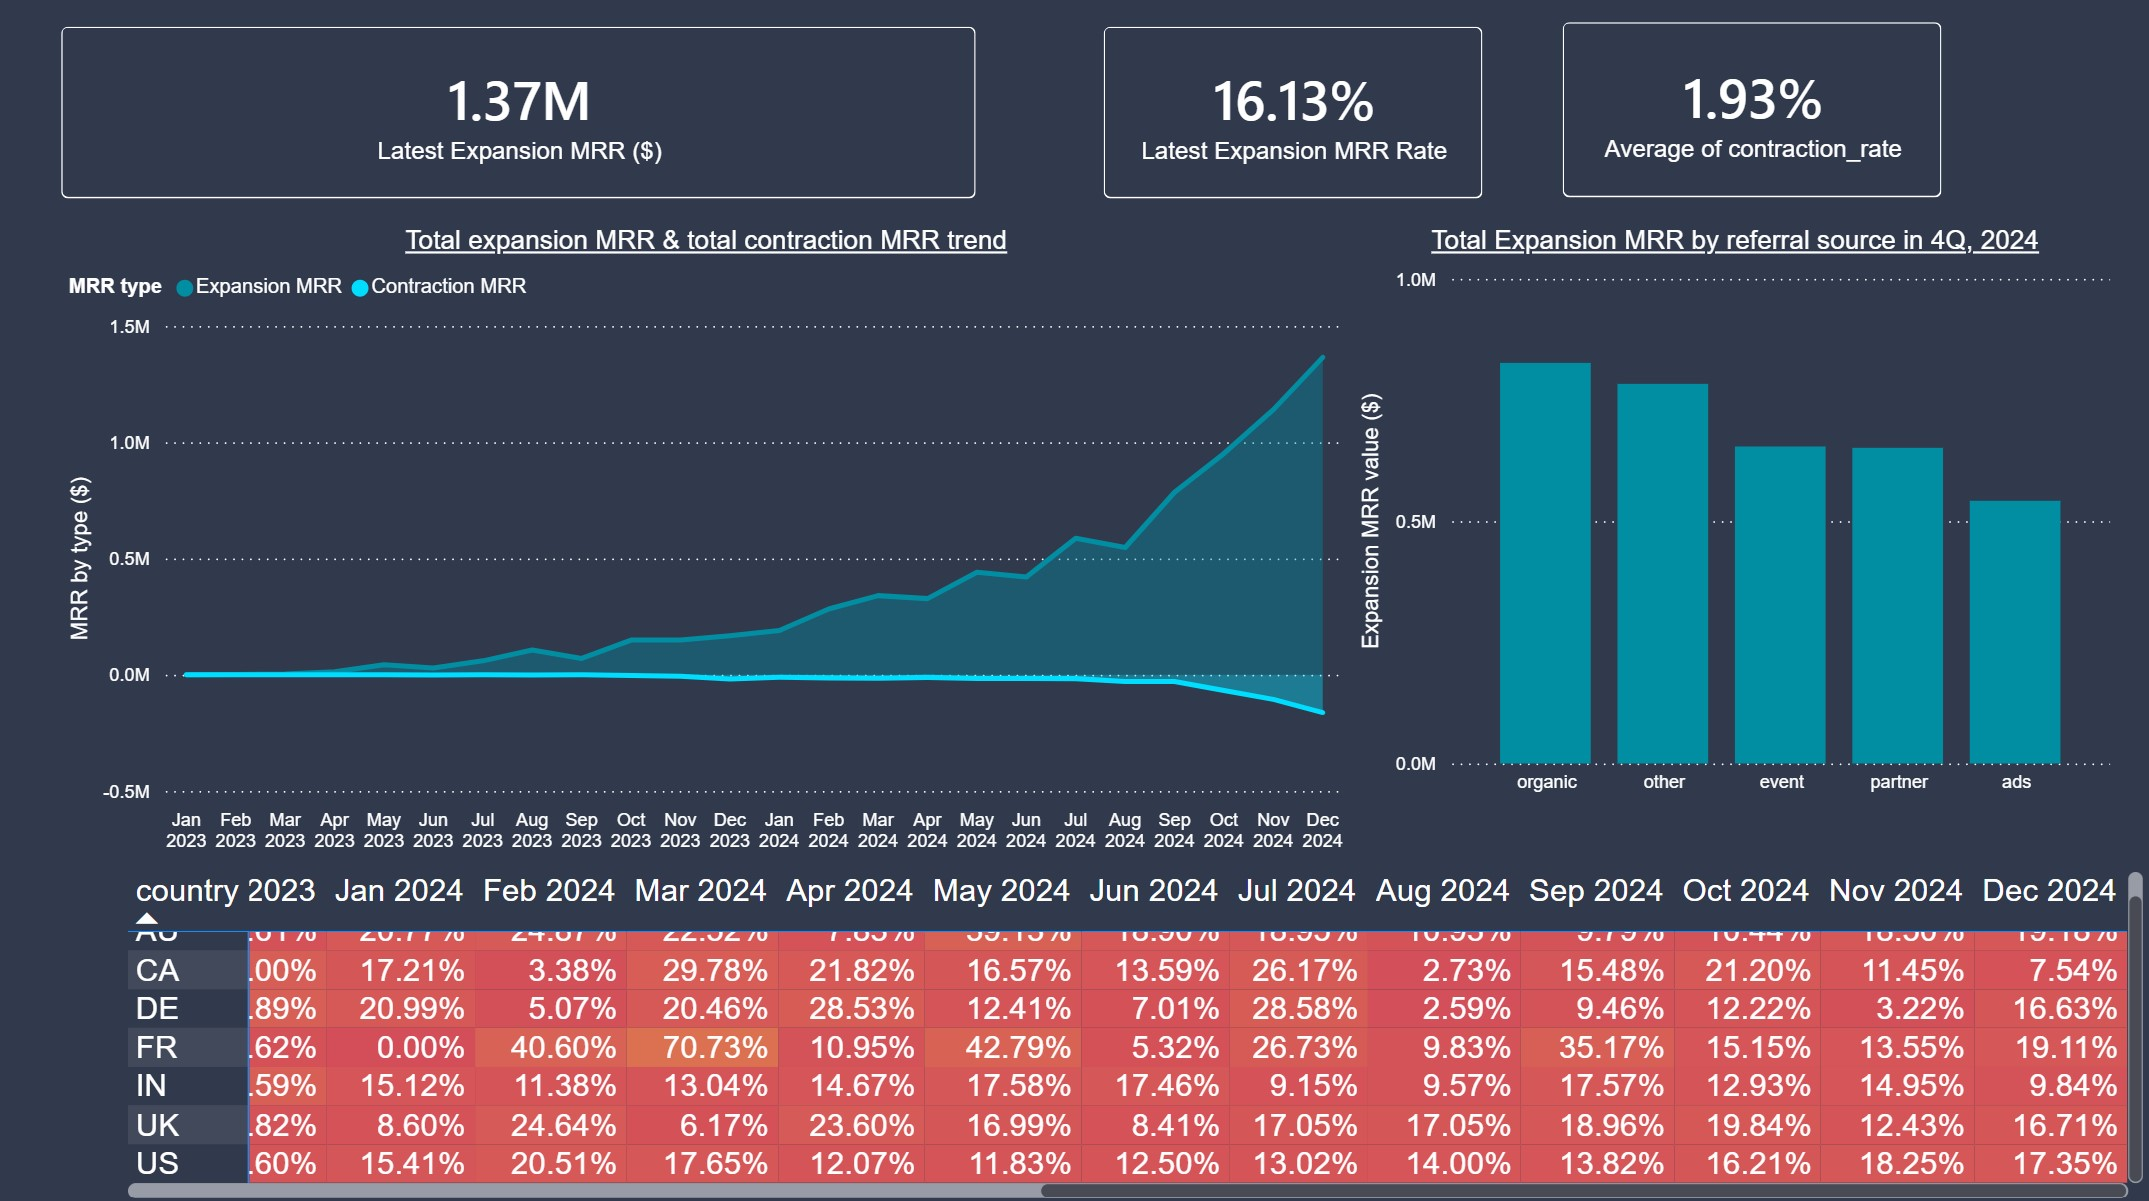

The dashboard page shown, as its layout file describes it:
{"tool":"powerbi","page":{"name":"Page 1","canvas":[1280,720],"ordinal":2},"visuals":[{"type":"cardVisual","fields":{"Data":["Sum(vw_expansion_mrr_rate.total_expansion_mrr)"]},"box":[21.7,1.8,578,148],"z":0},{"type":"cardVisual","fields":{"Data":["Avg(vw_expansion_mrr_rate.expansion_rate)"]},"box":[639.7,1.8,578.4,147.8],"z":1000},{"type":"columnChart","title":"Total Expansion MRR by referral source in 4Q, 2024","fields":{"Category":["vw_expansion_mrr_rate.referral_source"],"Y":["Sum(vw_expansion_mrr_rate.total_expansion_mrr)"]},"box":[805,138.3,455,345],"z":2000},{"type":"areaChart","title":"Total expansion MRR & total contraction MRR trend","fields":{"Category":["vw_expansion_mrr_rate.Month_Display"],"Y":["Sum(vw_expansion_mrr_rate.total_expansion_mrr)","Sum(vw_expansion_mrr_rate.Contraction_Negative)"]},"box":[38.3,138.3,766.7,378.3],"z":3000},{"type":"pivotTable","title":"Expansion MRR & contraction MRR by country","fields":{"Rows":["vw_expansion_mrr_rate.country"],"Columns":["vw_expansion_mrr_rate.Month_Display"],"Values":["Sum(vw_expansion_mrr_rate.expansion_rate)"]},"box":[73.1,516.4,1206.4,204.1],"z":4000}]}

Visuals, with their boxes in screenshot pixels (x1, y1, x2, y2), scaled from the page's 1280x720 canvas onto the 2149x1201 screenshot:
cardVisual - Sum(vw_expansion_mrr_rate.total_expansion_mrr): 36:3:1007:250
cardVisual - Avg(vw_expansion_mrr_rate.expansion_rate): 1074:3:2045:250
"Total Expansion MRR by referral source in 4Q, 2024" columnChart: 1352:231:2115:806
"Total expansion MRR & total contraction MRR trend" areaChart: 64:231:1352:862
"Expansion MRR & contraction MRR by country" pivotTable: 123:861:2148:1200
